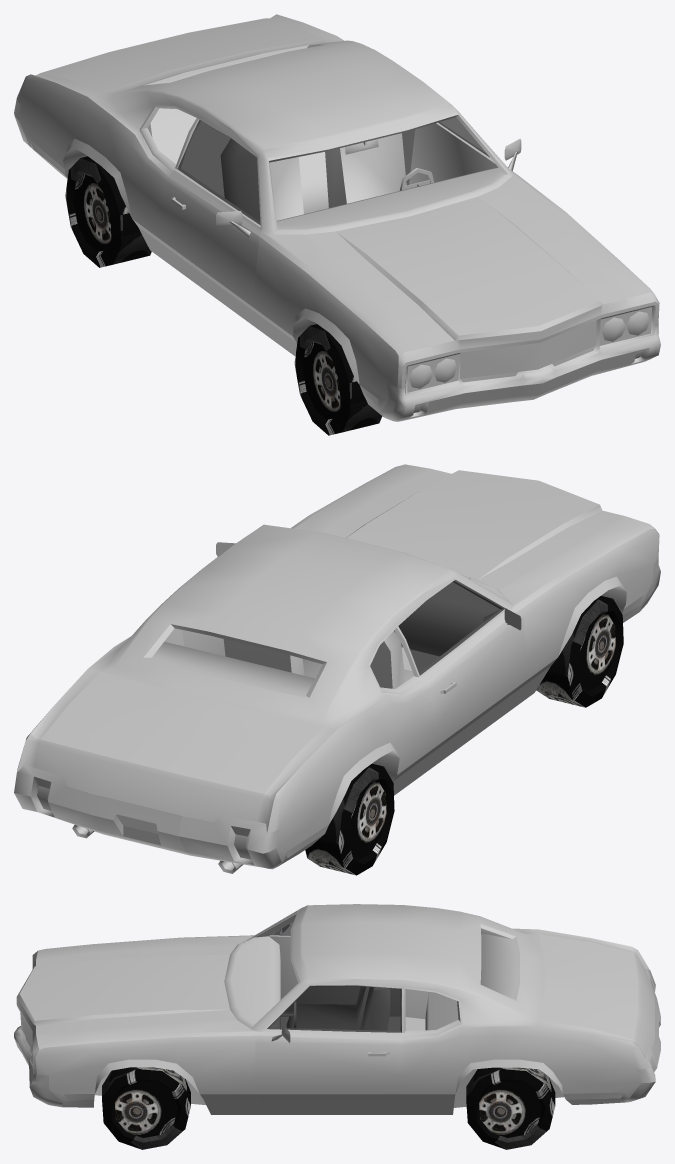
File: SimpleCar.FBX
3 renders of one model, top to bottom at view 1: azimuth 30°, elevation 25°; view 2: azimuth 150°, elevation 25°; view 3: azimuth 270°, elevation 25°, orthographic. The views are drawn at different scales.
Visible parts, largest first — view 1: Body, RightDoor, BR, FR, LeftDoor; view 2: Body, RightDoor, BR, FR, LeftDoor; view 3: Body, LeftDoor, BL, FL, RightDoor.
Part boxes in pixels (<box>): Body: <box>14,14,660,421</box>; RightDoor: <box>161,120,270,337</box>; BR: <box>65,156,151,267</box>; FR: <box>294,324,382,435</box>; LeftDoor: <box>409,117,521,184</box>; Body: <box>14,464,660,873</box>; RightDoor: <box>398,581,526,780</box>; BR: <box>305,763,394,875</box>; FR: <box>536,596,623,707</box>; LeftDoor: <box>182,542,235,656</box>; Body: <box>14,904,660,1114</box>; LeftDoor: <box>255,985,402,1114</box>; BL: <box>466,1067,555,1149</box>; FL: <box>102,1067,190,1149</box>; RightDoor: <box>269,921,400,1016</box>.
Size of the model in its own units: 27.55 by 17.35 by 63.61.
